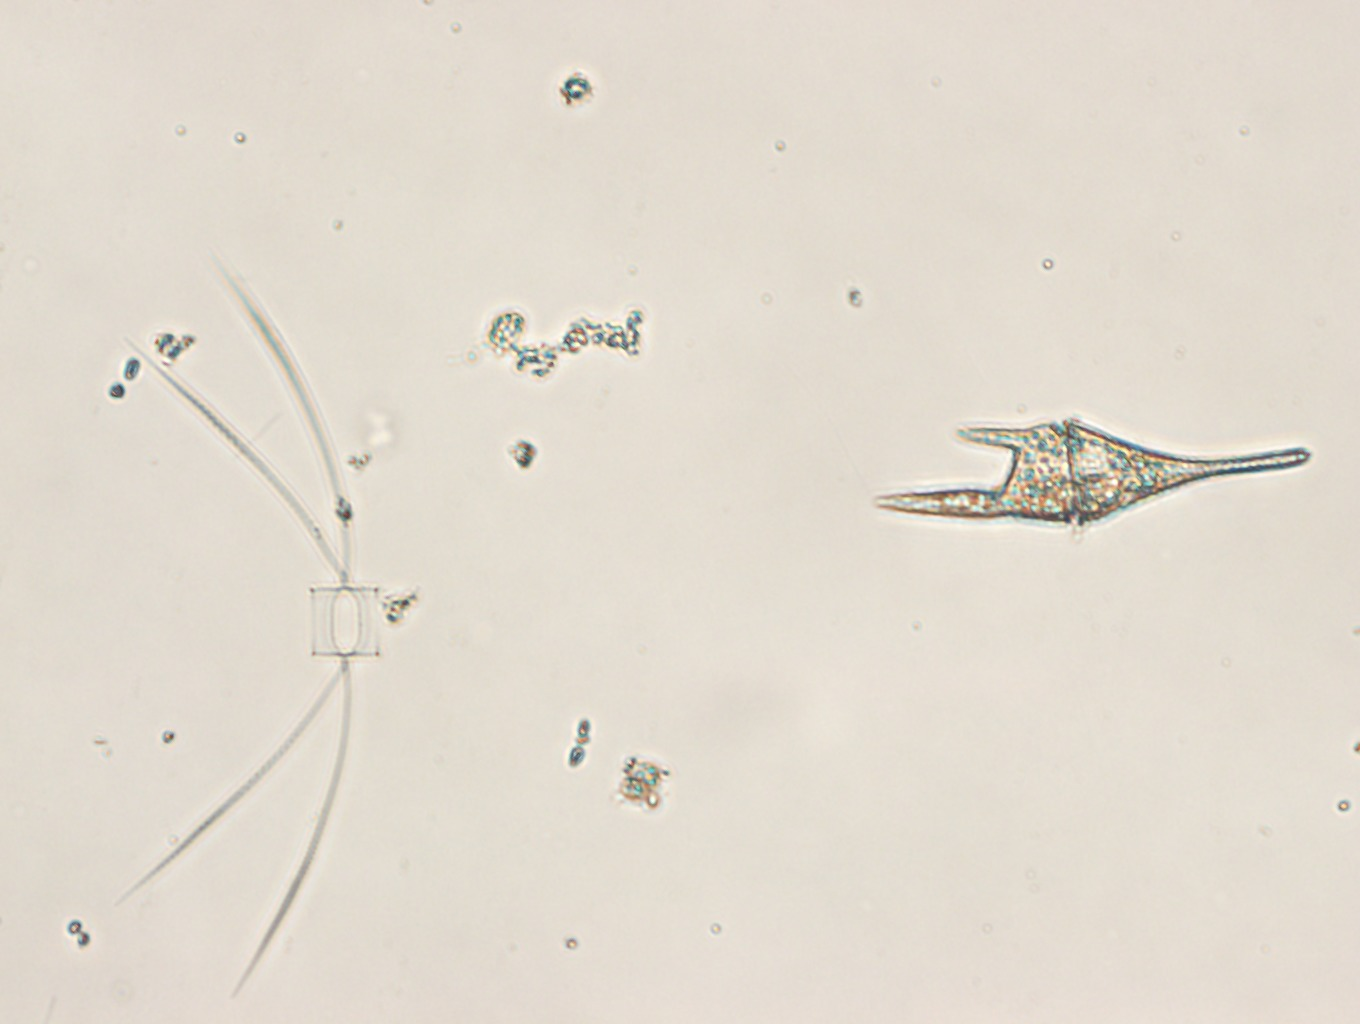ceratium furca: (873, 417, 1309, 525)
chaetoceros: (116, 246, 384, 991)
